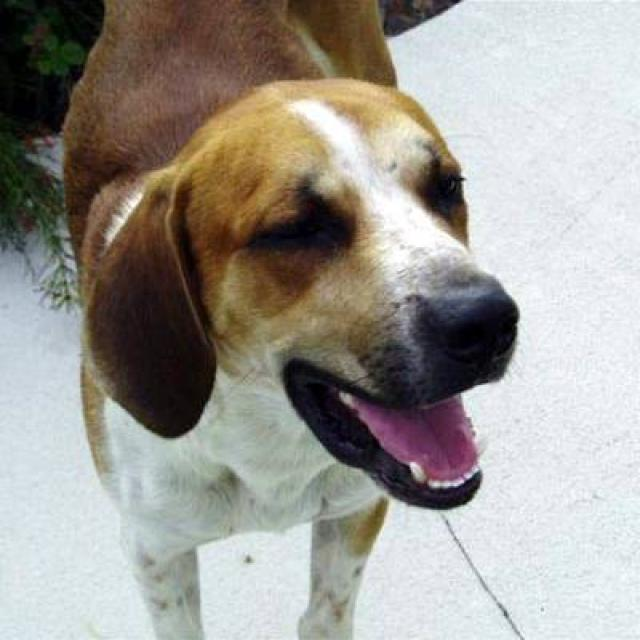dog: (57, 0, 521, 638)
